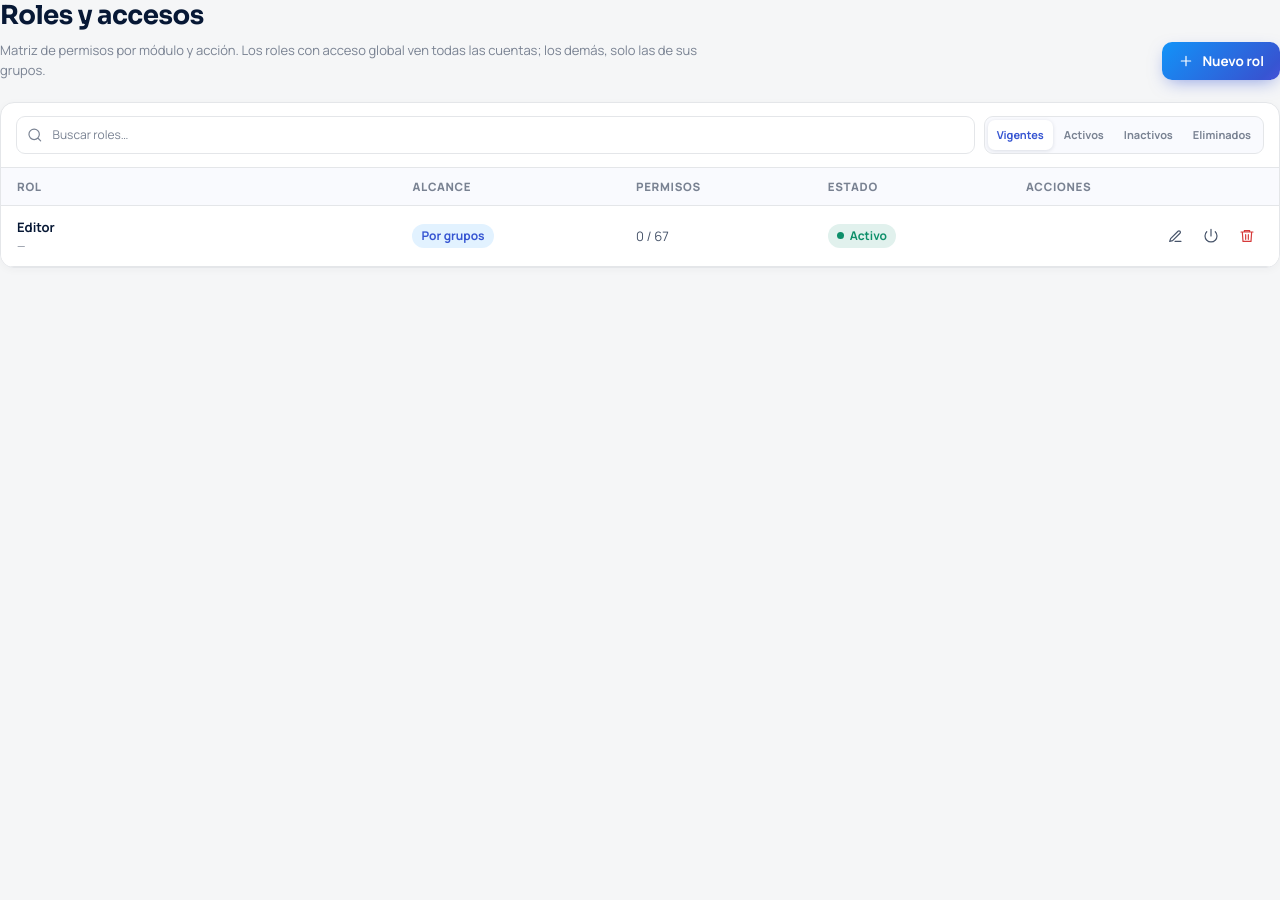
Test: Roles y accesos › no navega al detalle al pulsar una acción de la fila
Click the button named "Eliminar Editor" at (1247, 236), box [1231,220,1263,252]
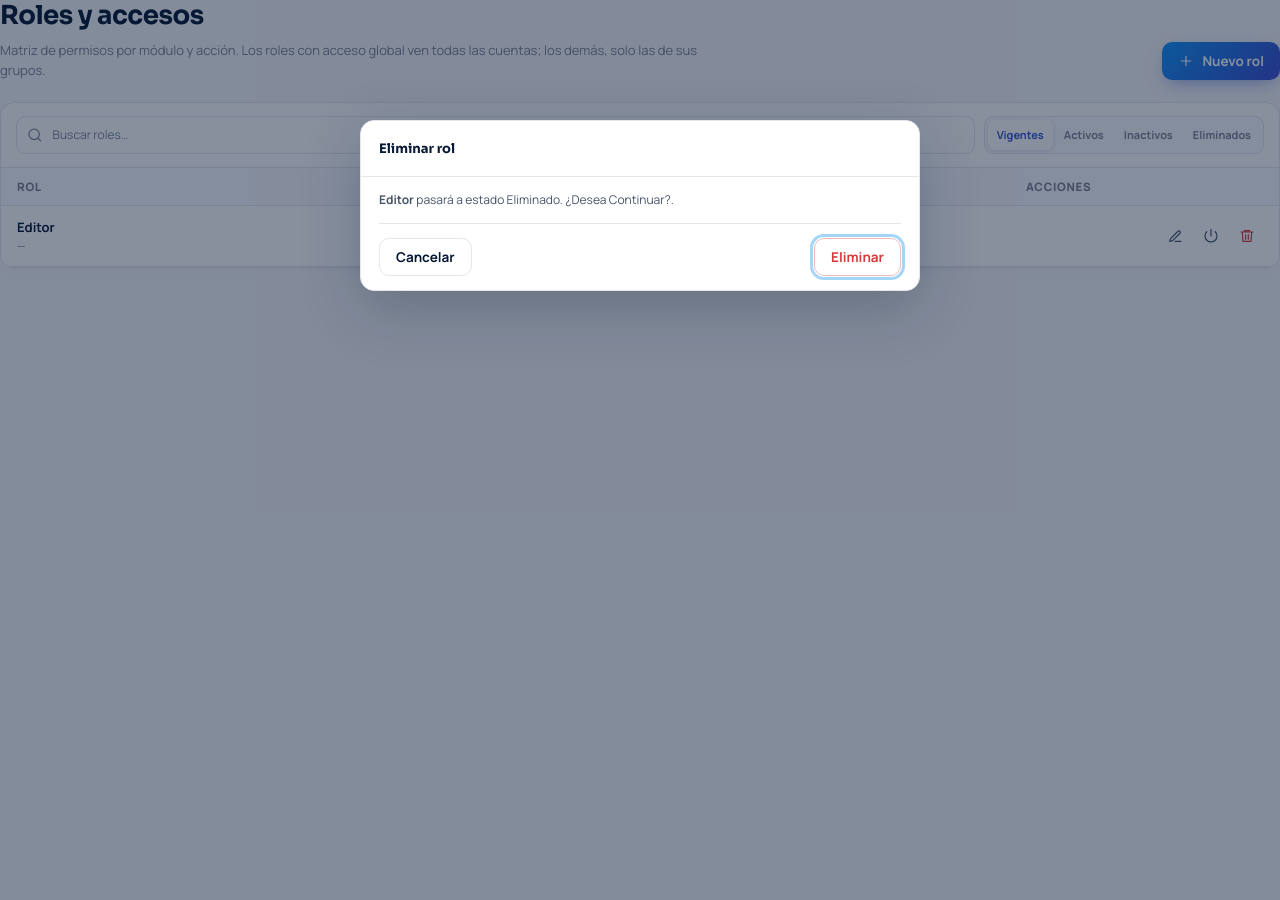
expect the dialog "Eliminar rol" is shown: met, box [360,120,920,291]
